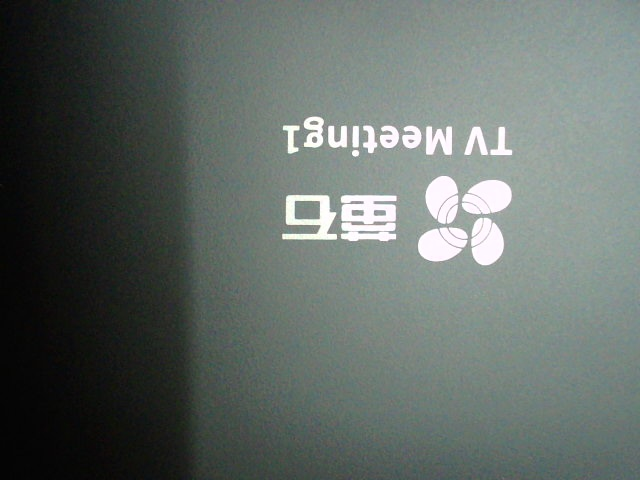BA_Yingshi: (273, 115, 514, 269)
